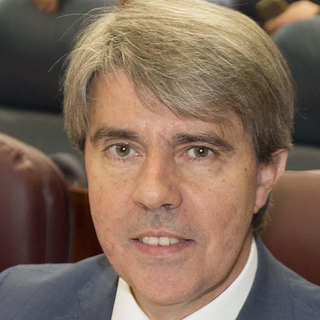eye: (175, 139, 225, 165), (100, 138, 143, 163)
